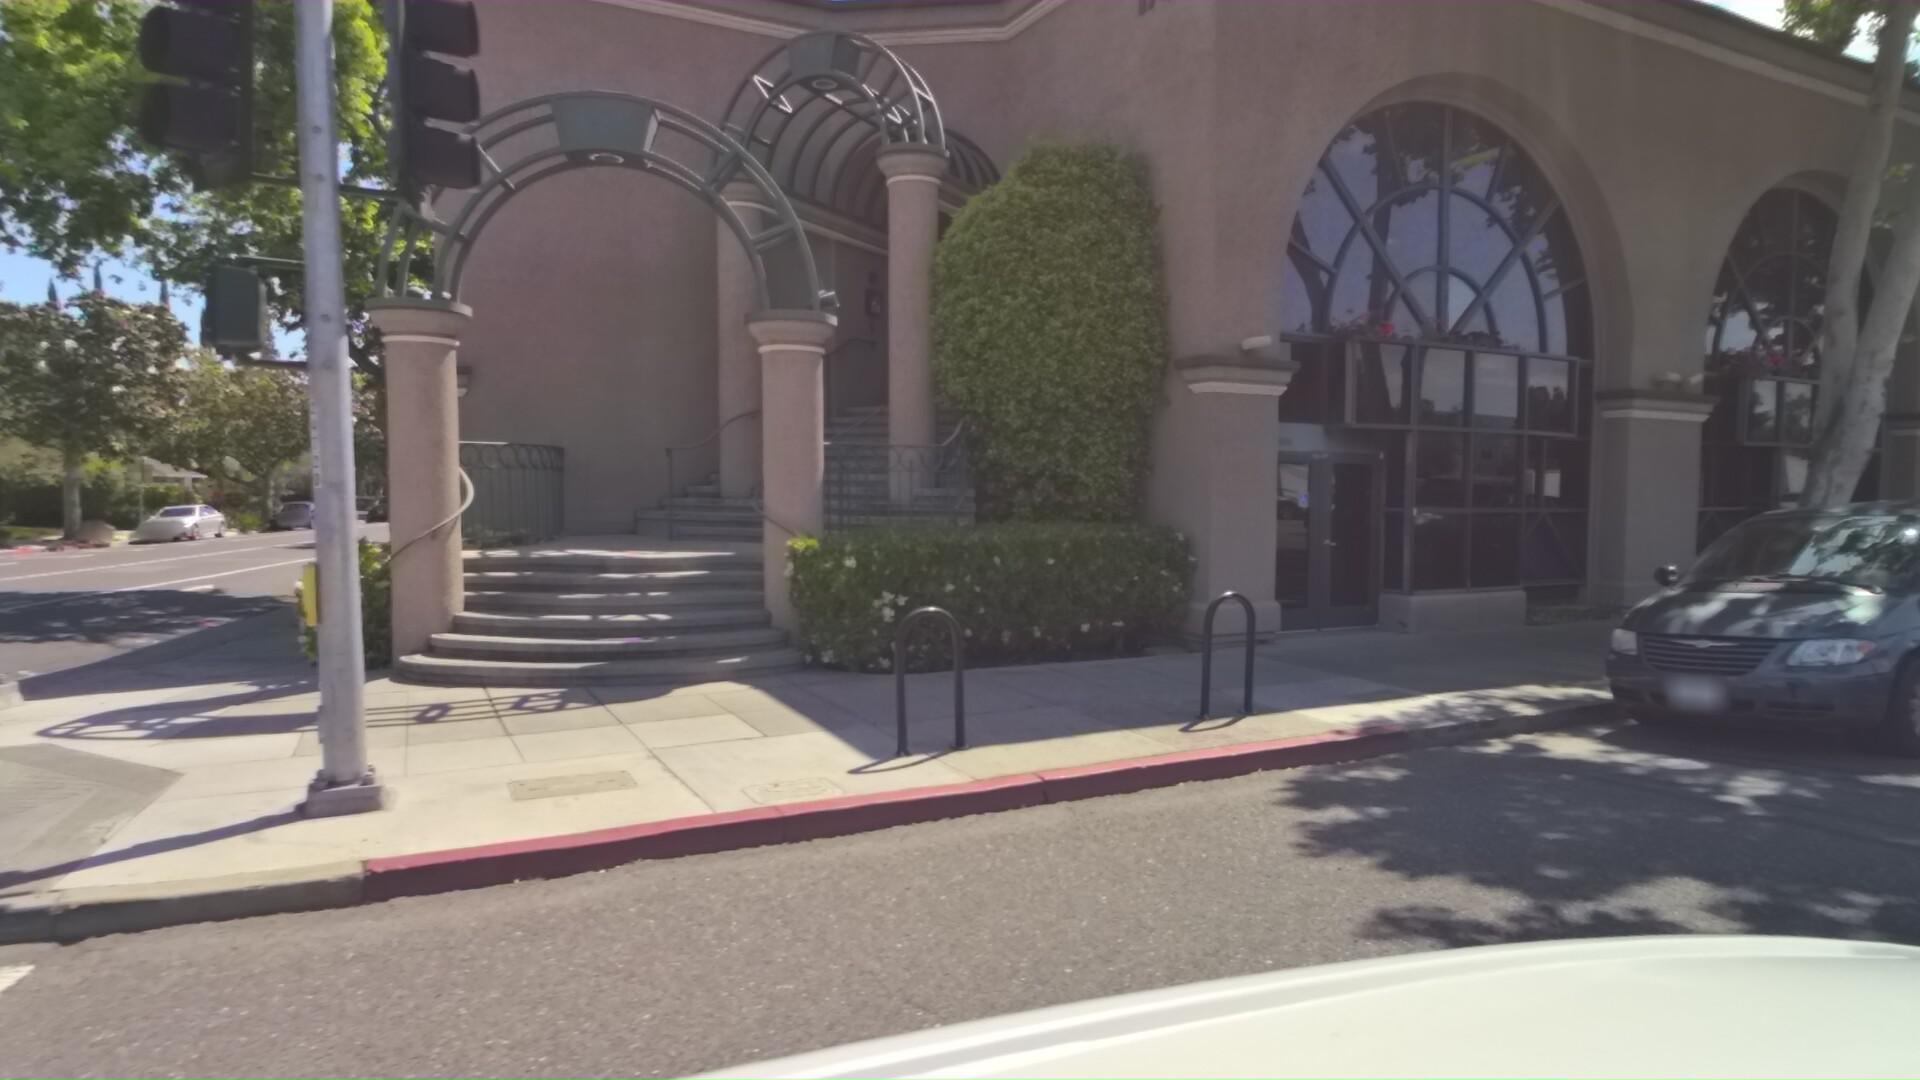car: (1572, 492, 1920, 823), (138, 496, 240, 541), (269, 497, 338, 531), (545, 492, 588, 531), (368, 495, 415, 520)
